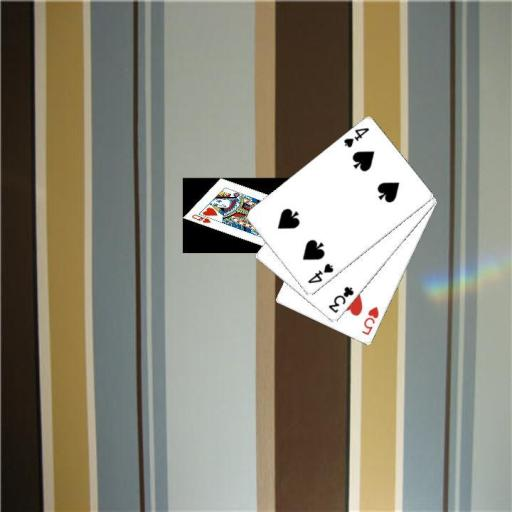3C: (325, 284, 356, 315)
4S: (304, 260, 335, 285), (341, 125, 371, 150)
5H: (359, 304, 381, 337)
